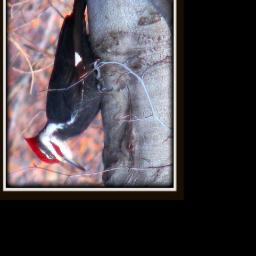Woodpecker: (23, 0, 114, 172)
